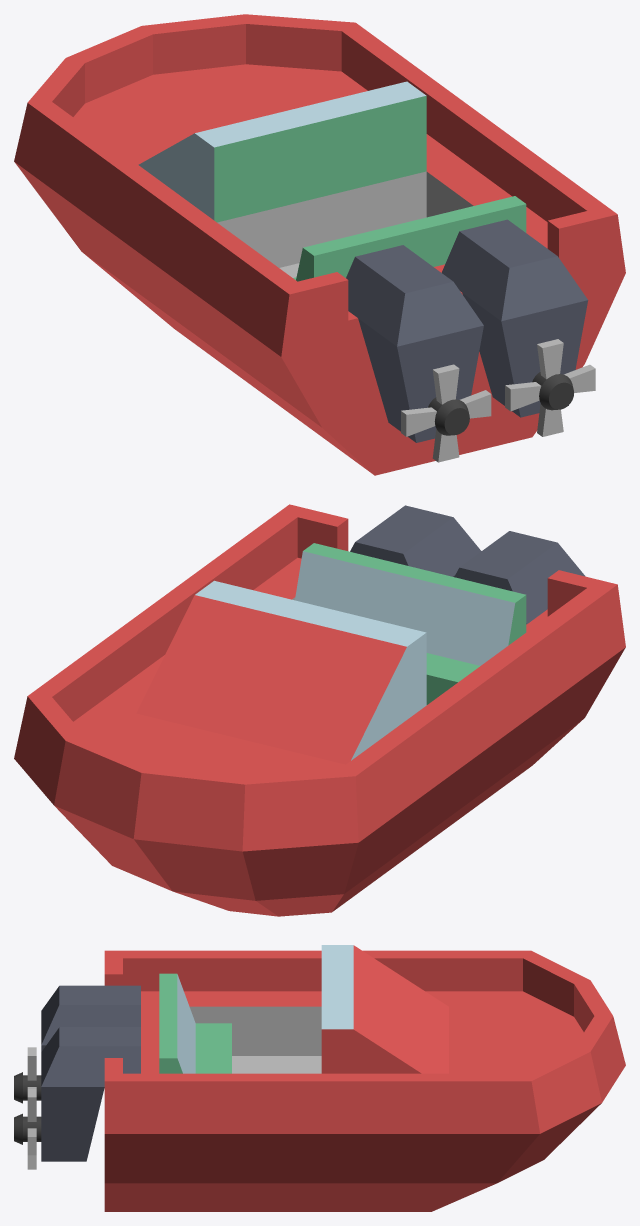
File: boat_013.fbx
3 renders of one model, top to bottom at view 1: azimuth 30°, elevation 25°; view 2: azimuth 150°, elevation 25°; view 3: azimuth 270°, elevation 25°, orthographic. The views are drawn at different scales.
Visible parts, largest first — view 1: boat_013, Group (×4); view 2: boat_013, Group (×2); view 3: boat_013, Group (×3).
Part boxes in pixels (x1,y1,x2,y2): boat_013: (14, 14, 625, 475); Group (×4): (346, 219, 595, 462); boat_013: (14, 504, 625, 916); Group (×2): (350, 505, 585, 624); boat_013: (104, 945, 625, 1211); Group (×3): (14, 985, 140, 1169).
Size of the model in its own units: 17.85 by 11.75 by 33.7.
